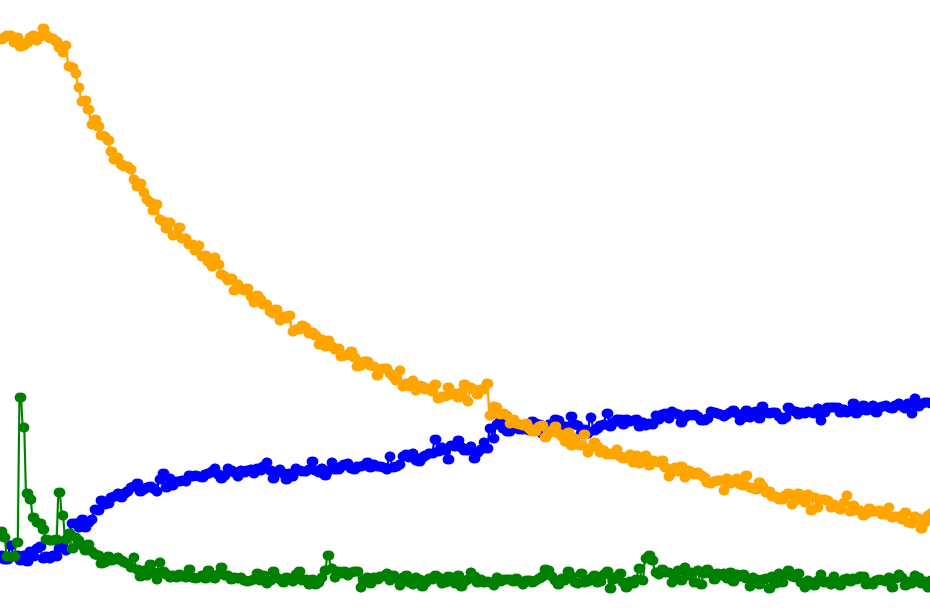CO2 Problem: (388, 0, 661, 616), (661, 0, 930, 616), (272, 0, 388, 616)
Low O2: (661, 0, 930, 616), (738, 0, 930, 616)
Normal: (272, 0, 930, 616), (388, 0, 930, 616), (0, 0, 388, 616), (388, 0, 661, 616), (116, 0, 388, 616), (661, 0, 930, 616), (116, 0, 272, 616), (0, 0, 77, 616)
O2 Problem: (388, 0, 930, 616)
